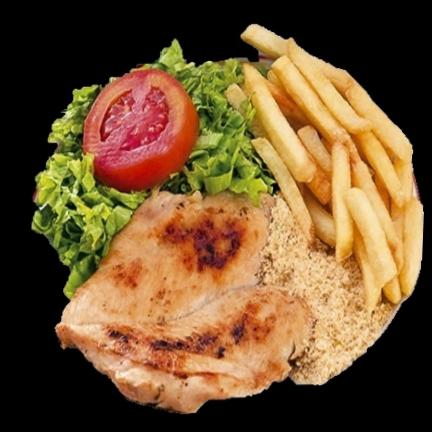chicken: (56, 192, 310, 412)
potato: (241, 25, 423, 306)
salad: (31, 85, 149, 297), (143, 40, 275, 203)
tomato: (83, 68, 198, 191)
